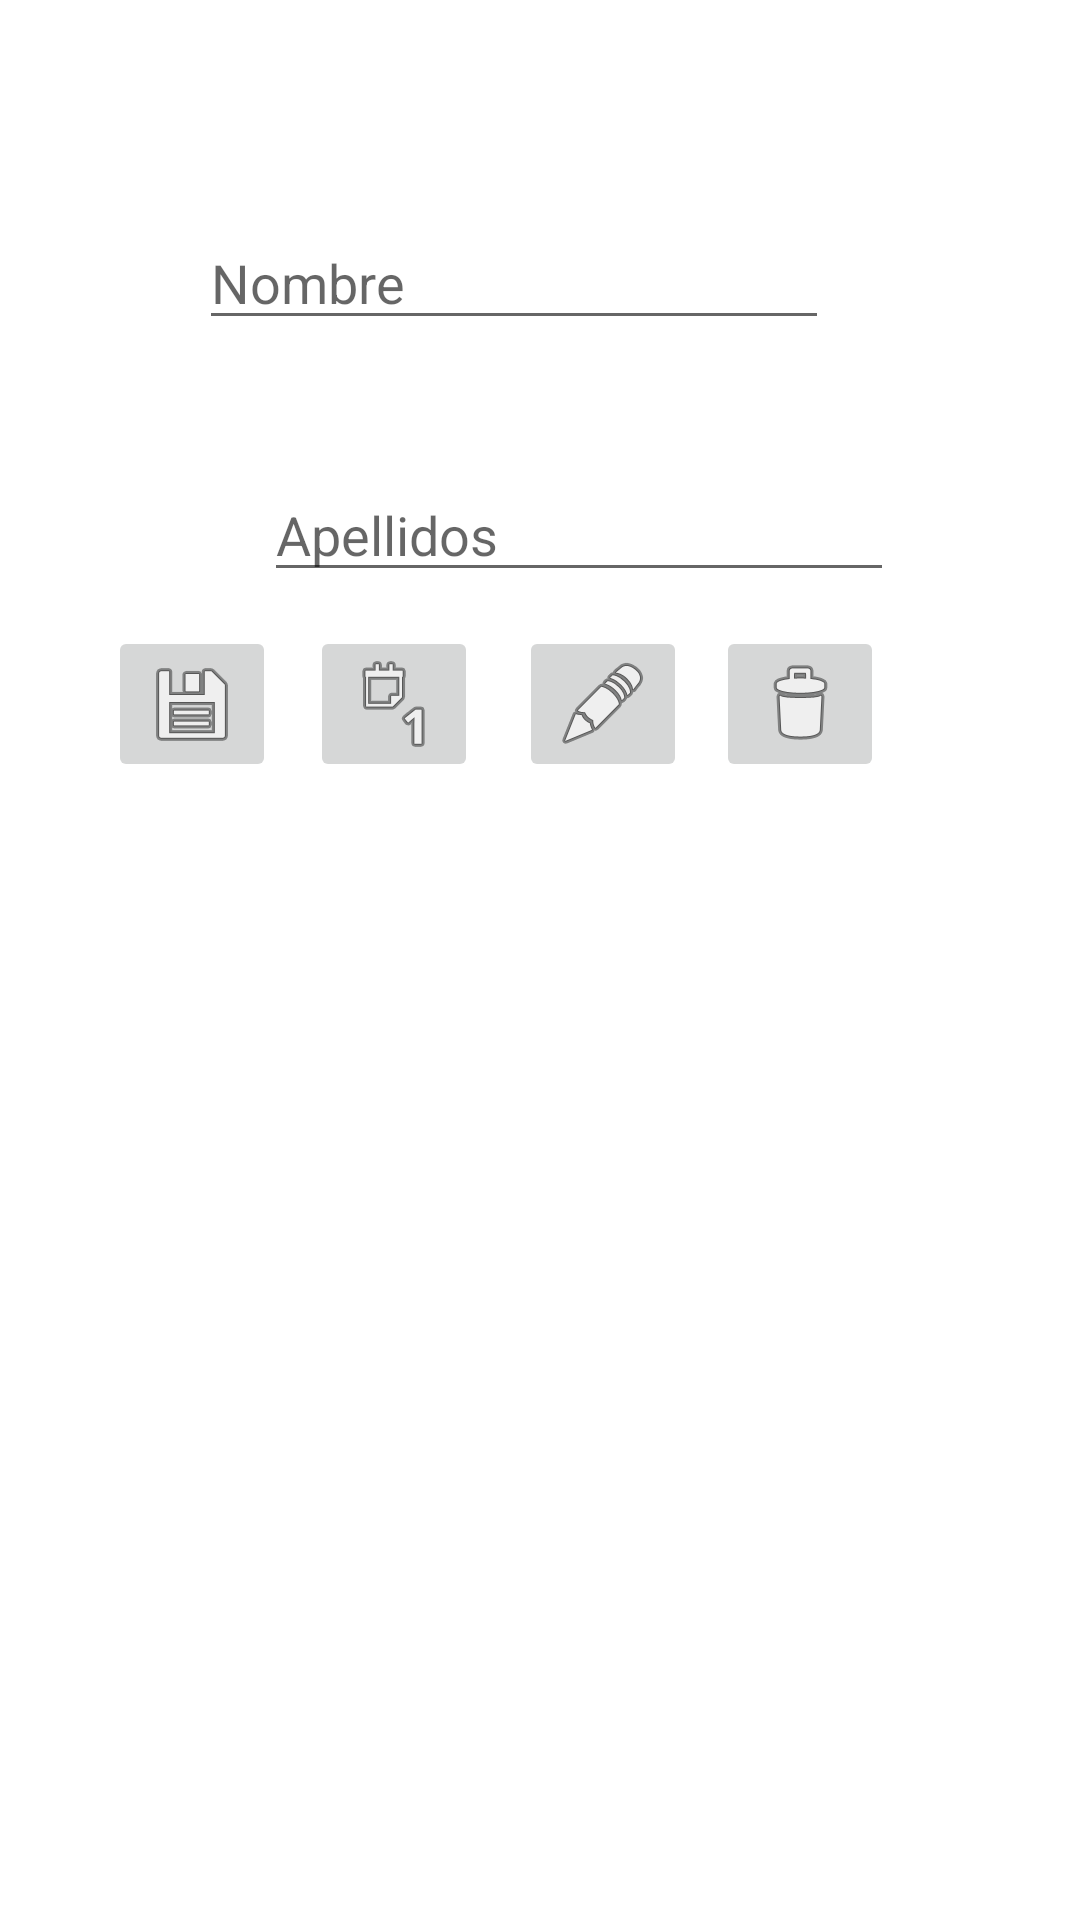

Icon click points for this 1080px x 1920px phone screenshot, format [x,y]:
day: [394,704]
delete: [800,704]
edit: [603,704]
save: [192,704]
